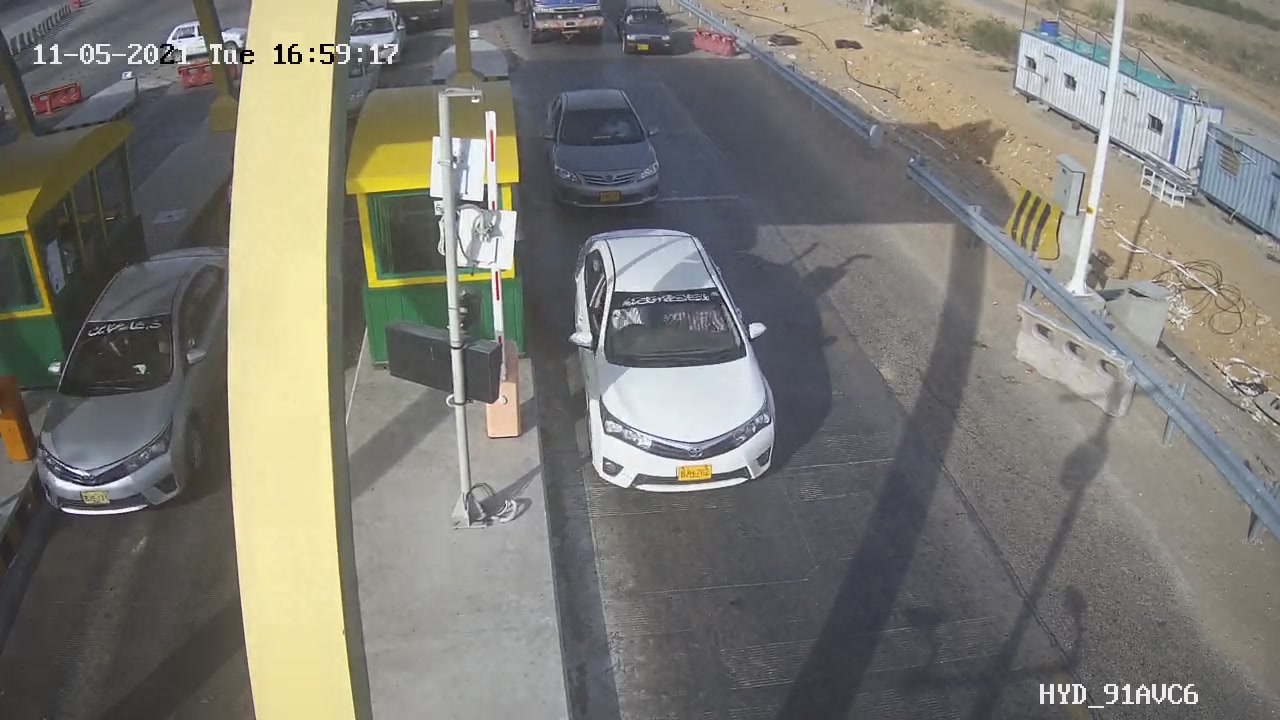F1: (547, 213, 804, 514), (524, 73, 686, 229)
